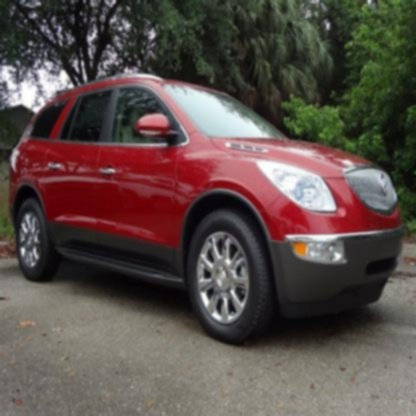Vehicle: (7, 73, 405, 348)
